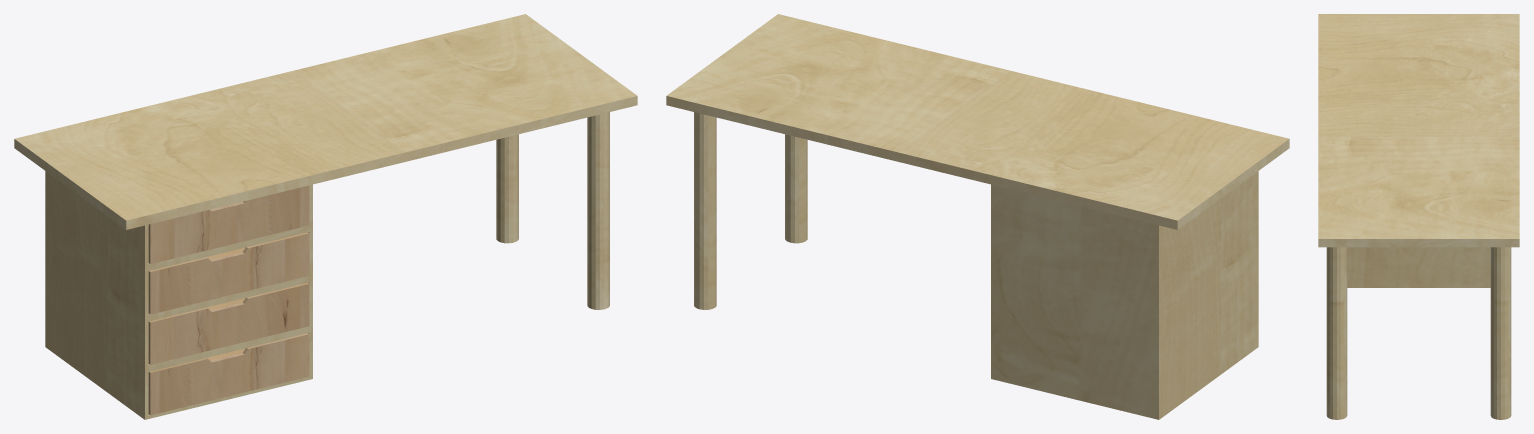
File: biurko2.obj
The picture shows the model from 3 angles, left to right: view 1: azimuth 30°, elevation 25°; view 2: azimuth 150°, elevation 25°; view 3: azimuth 270°, elevation 25°; orthographic projection. The views are drawn at different scales.
Parts seen in each view (by area): view 1: Desk_Cube.001, Shelf2_Cube.004, Shelf3_Cube.005, Shelf4_Cube.006, Shelf1_Cube.002; view 2: Desk_Cube.001; view 3: Desk_Cube.001.
Part boxes in pixels (x1,y1,x2,y2): Desk_Cube.001: (14, 14, 637, 419); Shelf2_Cube.004: (148, 232, 309, 314); Shelf3_Cube.005: (148, 283, 309, 364); Shelf4_Cube.006: (148, 333, 309, 415); Shelf1_Cube.002: (148, 185, 309, 263); Desk_Cube.001: (666, 14, 1289, 419); Desk_Cube.001: (1318, 14, 1519, 419).
Bounding box in the file's own units: 4.84 × 1.9 × 1.83.
Materials: 2 (2 with a texture image).
